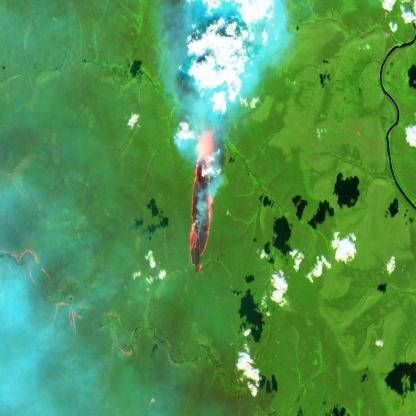fire: (186, 124, 222, 274)
